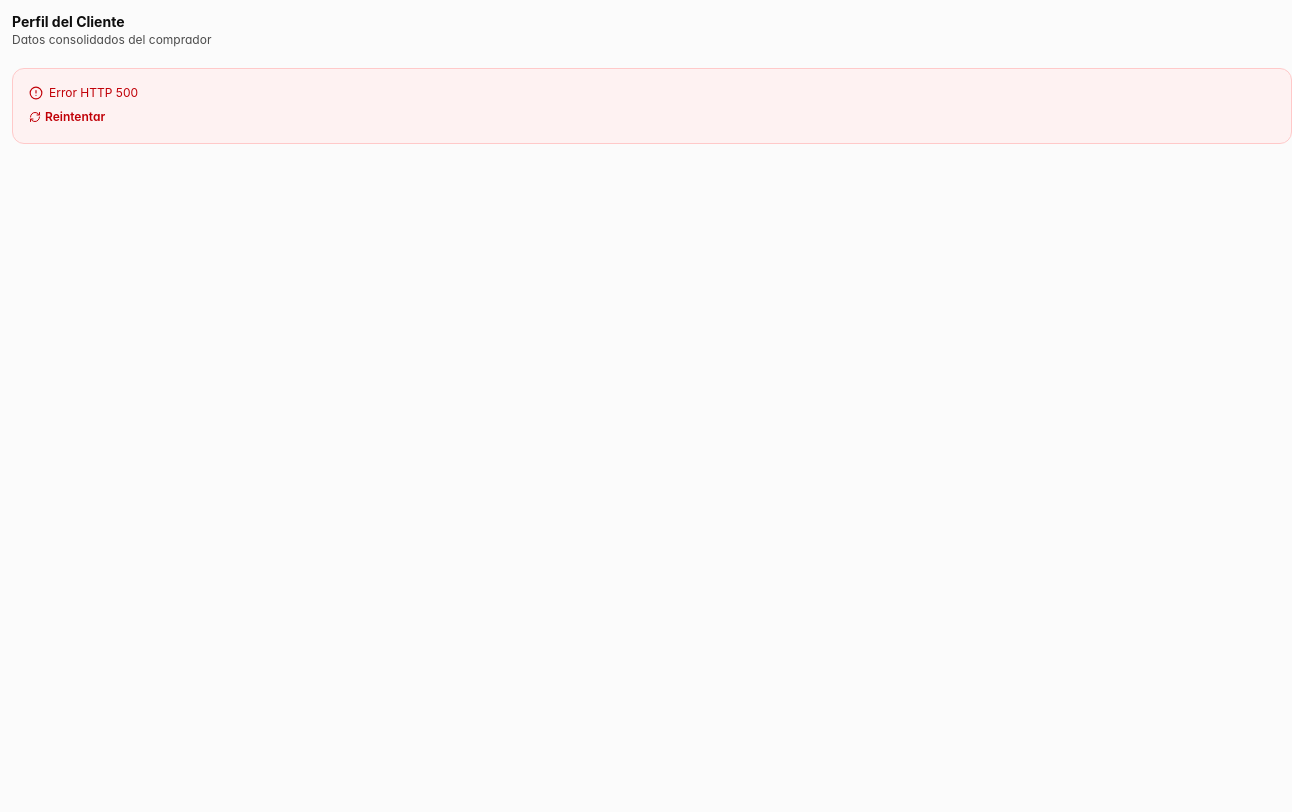
Scenario: CustomerProfilePanel › shows an error with retry when the profile cannot load
Expected: the text "Error HTTP 500" is shown, top-left (29, 85), bottom-right (138, 100)
Click the button "Reintentar" at (67, 117), box top-left (29, 109), bottom-right (105, 125)
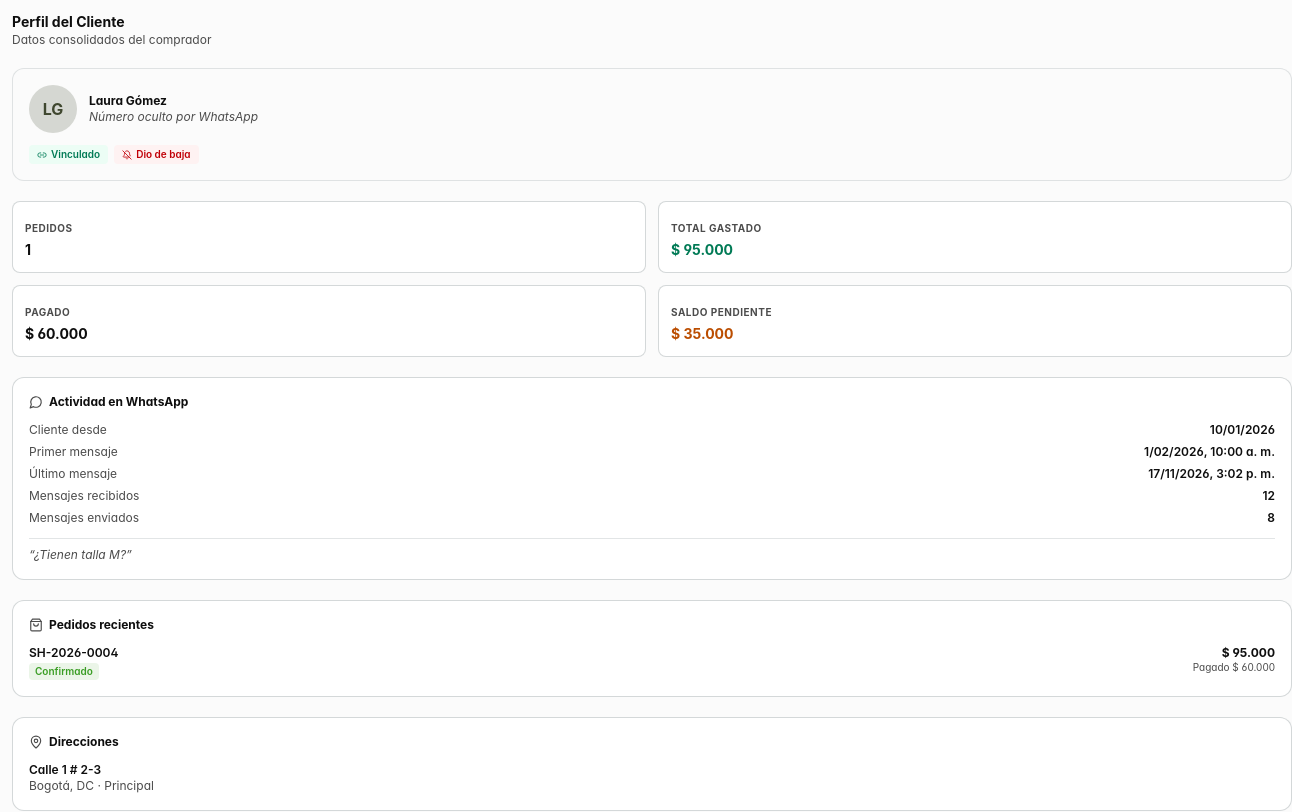
Expected: the heading "Laura Gómez" is shown, top-left (89, 93), bottom-right (167, 108)
